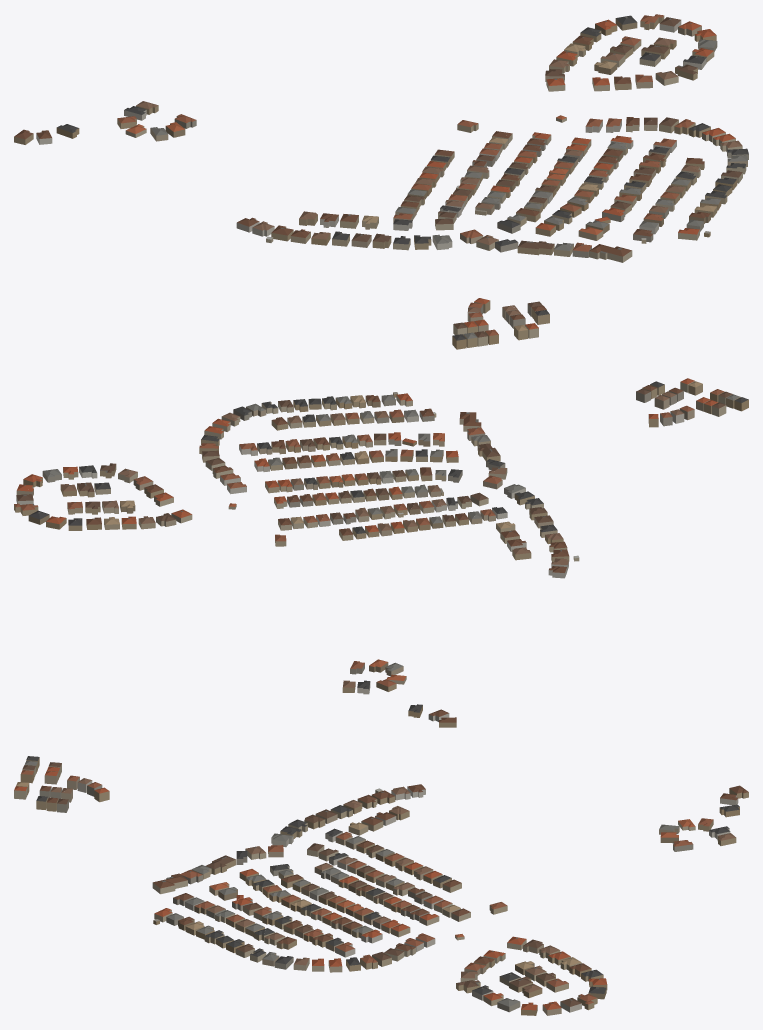
The picture shows the model from 3 angles, top to bottom: view 1: azimuth 30°, elevation 25°; view 2: azimuth 150°, elevation 25°; view 3: azimuth 270°, elevation 25°; orthographic projection. The views are drawn at different scales.
Visible parts, largest first — view 1: buildings_r7_c5_lod1; view 2: buildings_r7_c5_lod1; view 3: buildings_r7_c5_lod1.
Part boxes in pixels (box(x1,y1,x2,y2)): buildings_r7_c5_lod1: box(14, 14, 748, 349); buildings_r7_c5_lod1: box(14, 378, 748, 727); buildings_r7_c5_lod1: box(14, 756, 748, 1015).
Bounding box in the file's own units: 691 × 77.66 × 805.
